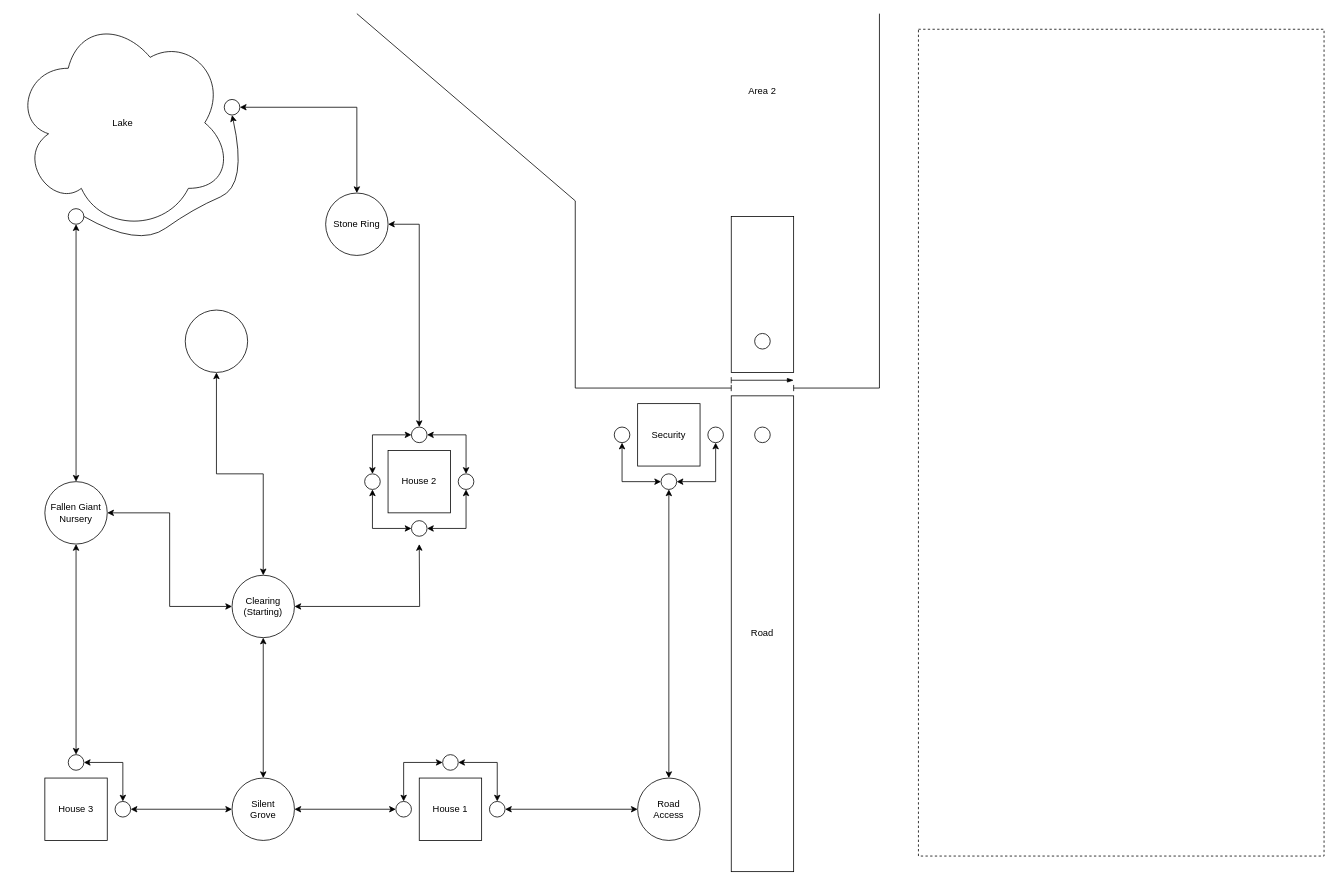
Image size: 1338x885. Some labels were removed from this diagram. The centre of each missing label's shape, as x and y in pixels:
"Houses Map" belongs at (x=1121, y=442).
"Massive Tree" belongs at (x=216, y=340).
